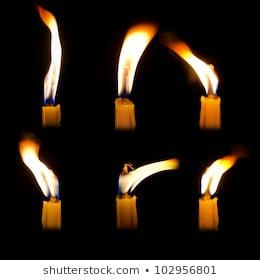fire: (115, 18, 156, 95), (169, 35, 220, 95), (18, 136, 59, 199), (39, 3, 64, 103), (200, 153, 237, 198)
